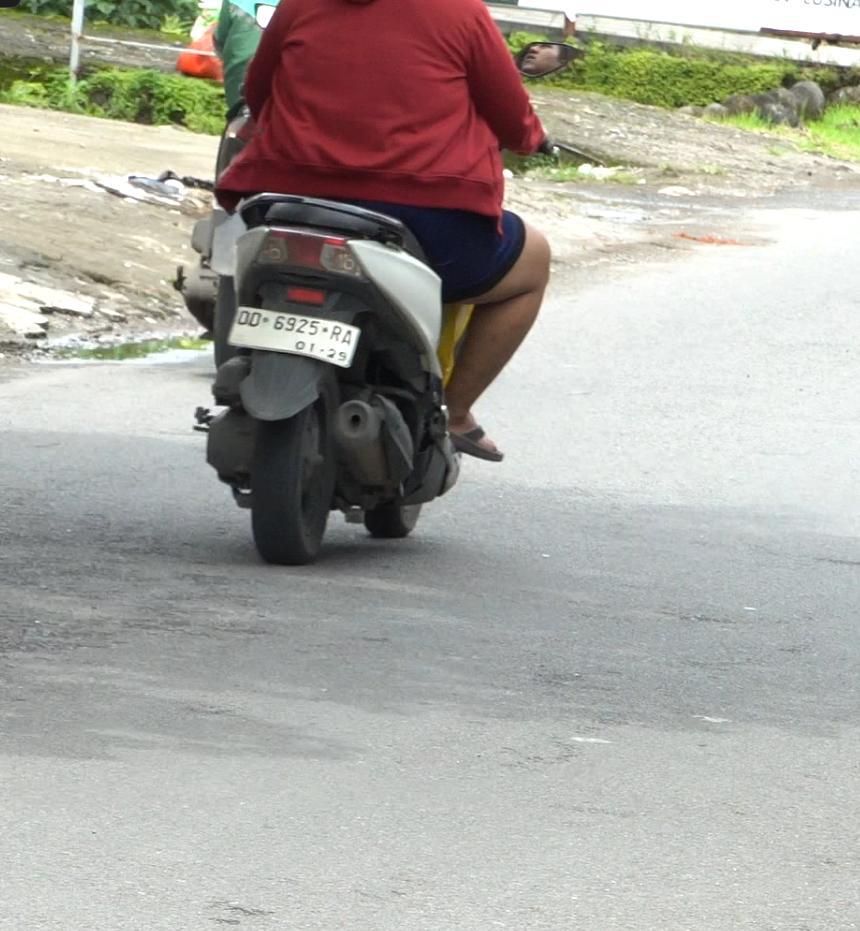number-plate: (227, 307, 361, 368)
